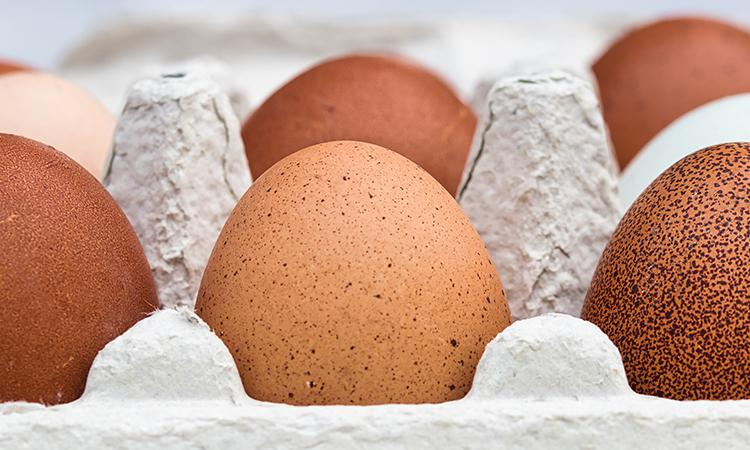egg: (181, 137, 525, 425), (578, 142, 750, 400), (0, 132, 159, 406)
